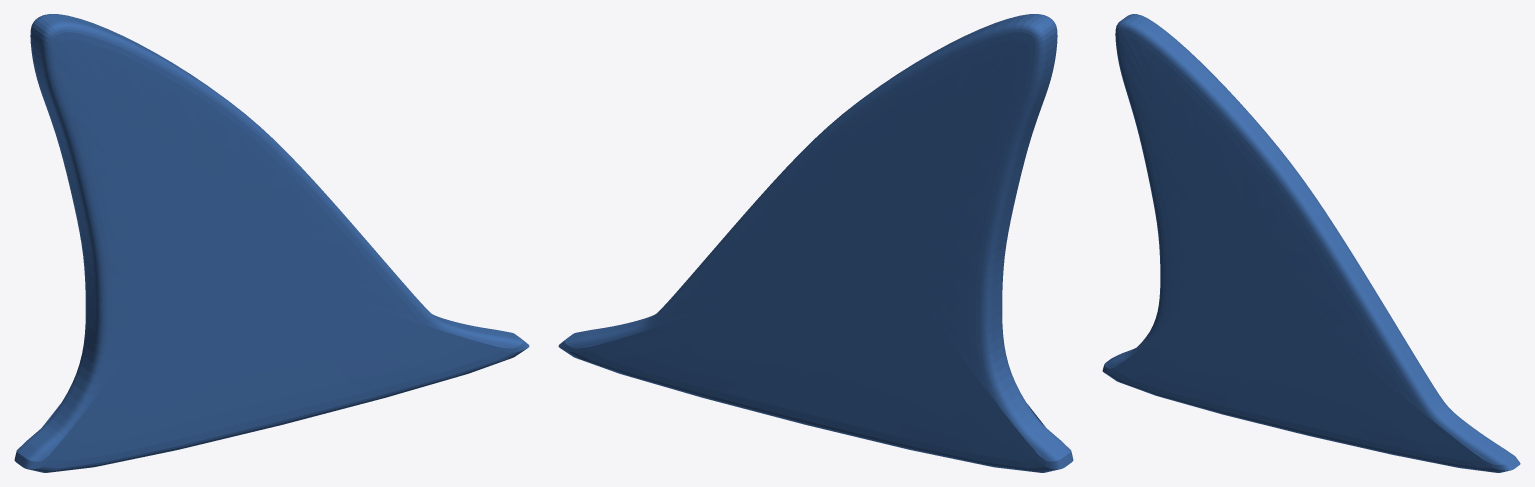
Rendered from Shark Fin.fbx.
3 views of the same model, side by side, from view 1: azimuth 30°, elevation 25°; view 2: azimuth 150°, elevation 25°; view 3: azimuth 330°, elevation 25° (orthographic). The views are drawn at different scales.
Parts seen in each view (by area): view 1: Shark Fin; view 2: Shark Fin; view 3: Shark Fin.
Boxes of the visible parts, left/top/right/bottom form: Shark Fin: left=14, top=14, right=529, bottom=472; Shark Fin: left=558, top=14, right=1073, bottom=472; Shark Fin: left=1102, top=14, right=1520, bottom=472.
Bounding box in the file's own units: 1.43 × 1.24 × 0.0976.
